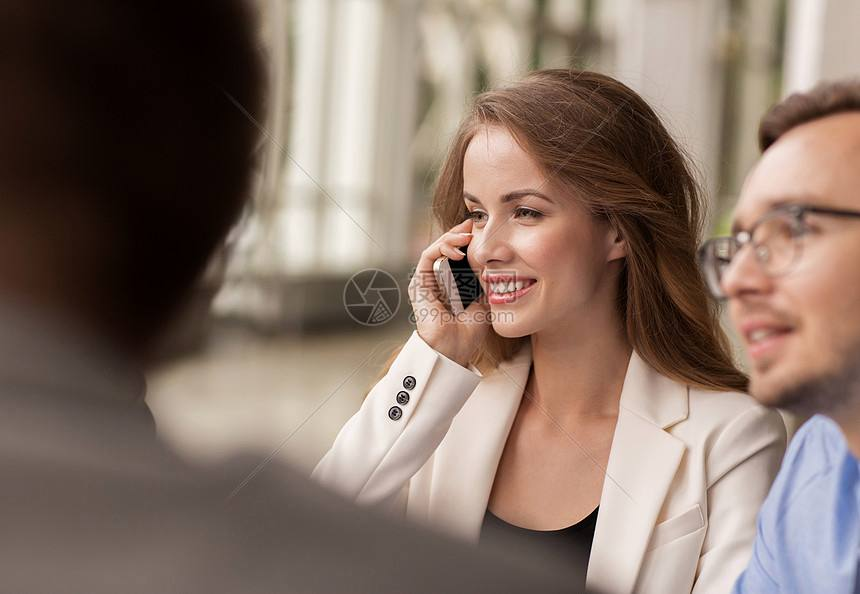calling: (405, 215, 497, 358)
